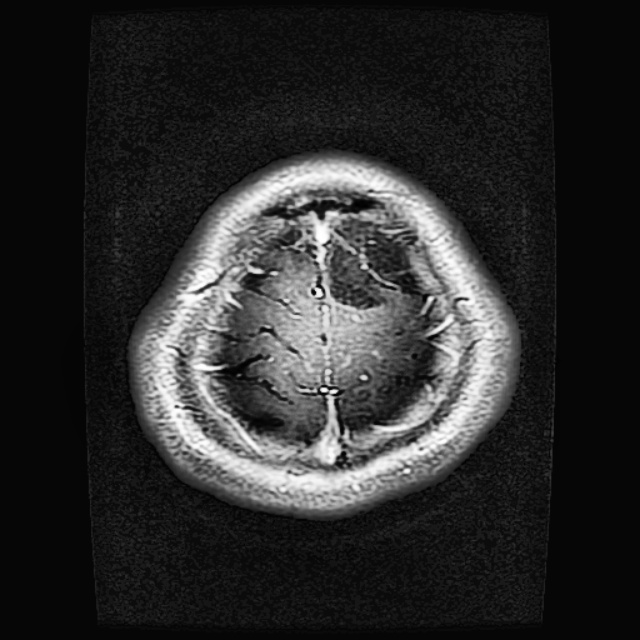Glioma: (324, 214, 424, 309)
